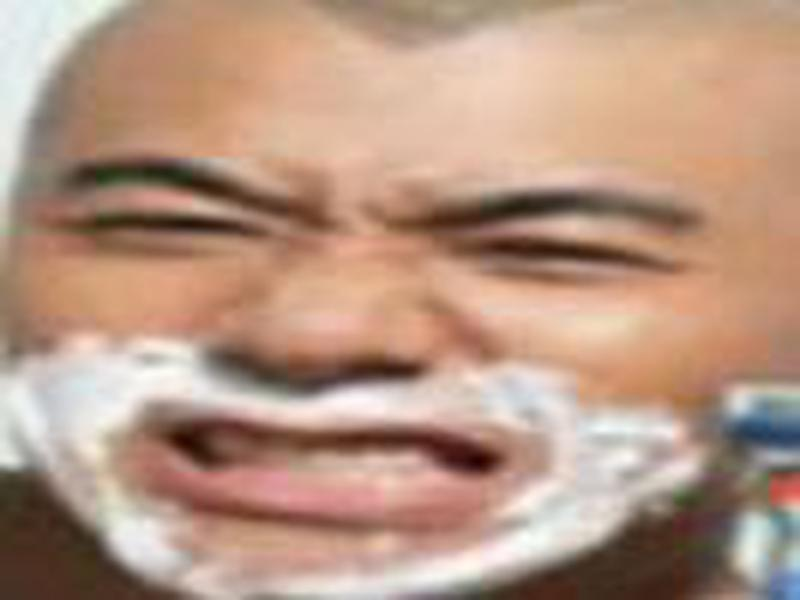without_mask: (10, 38, 757, 584)
